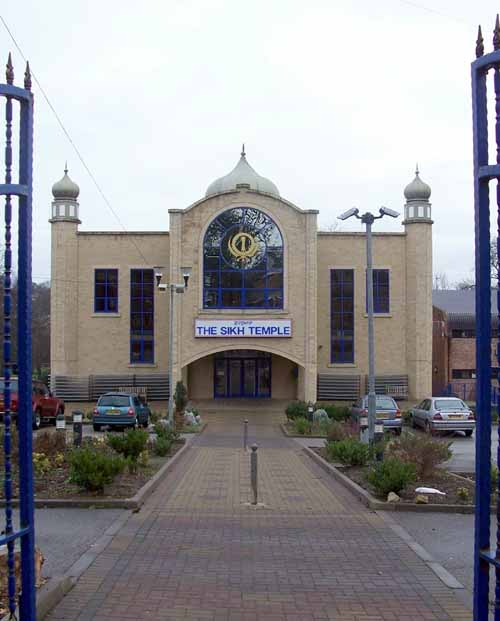Gurdwara: (36, 148, 441, 425)
